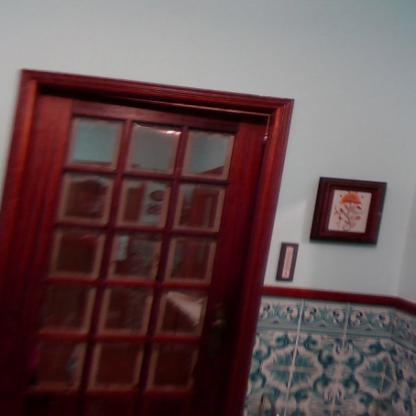door: (32, 87, 245, 415)
knob: (210, 316, 236, 340)
